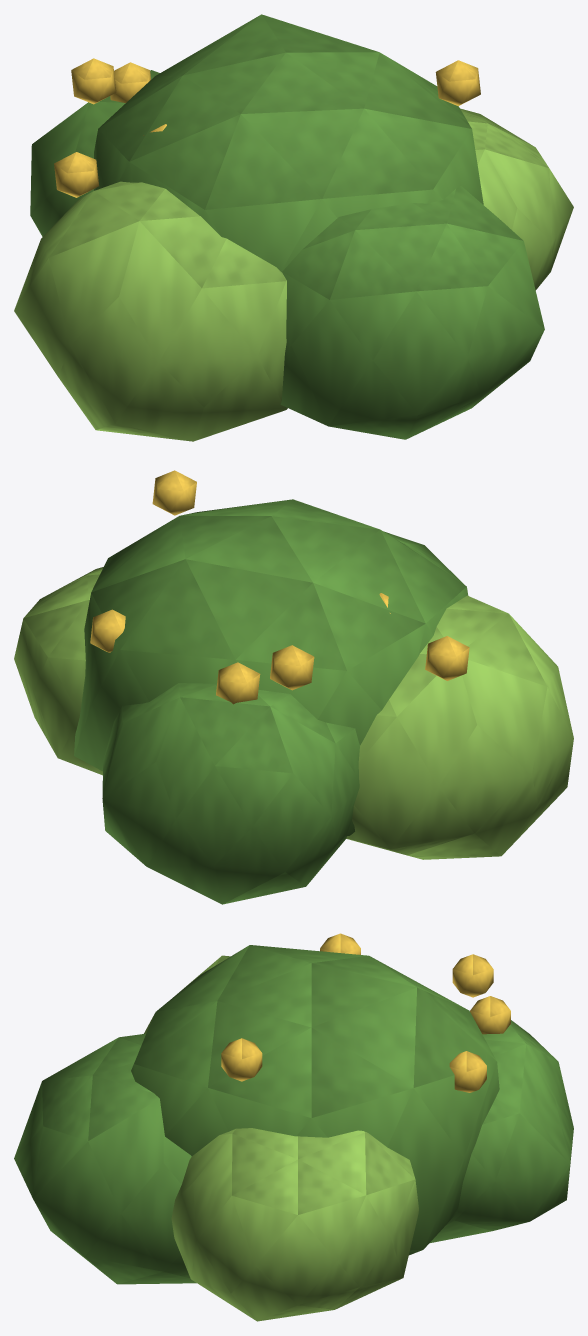
Rendered from bush_round_05.glb.
3 views of the same model, one above another, from view 1: azimuth 30°, elevation 25°; view 2: azimuth 150°, elevation 25°; view 3: azimuth 270°, elevation 25° (orthographic). The views are drawn at different scales.
Visible parts, largest first — view 1: bush_round_05; view 2: bush_round_05; view 3: bush_round_05.
Boxes of the visible parts, x1,y1,x2,y2 form: bush_round_05: [14, 14, 573, 441]; bush_round_05: [14, 470, 573, 904]; bush_round_05: [14, 933, 573, 1321].
Bounding box in the file's own units: 1.86 × 1.13 × 1.82.
1 material, 1 textured.
